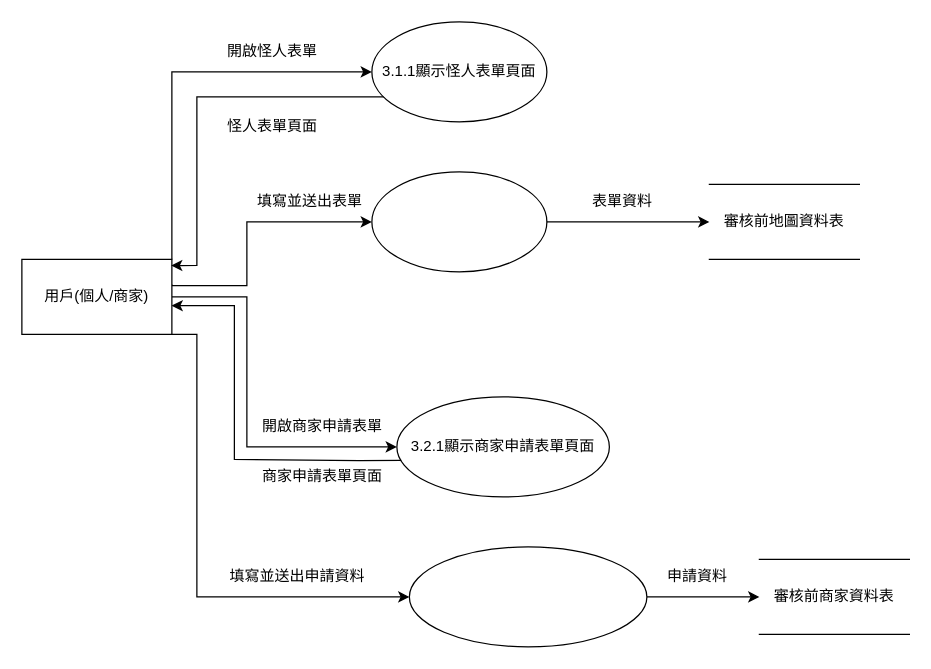
This 931x669 diagram has some shape labels left out. Each missing label, with the centre of its shape:
"3.1.2接收並儲存表單資料" belongs at (459,221).
"3.2.2接收並儲存申請資料" belongs at (527,596).
